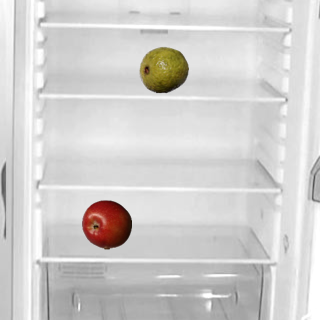Apple Braeburn: (81, 199, 131, 249)
Guava: (138, 44, 188, 94)
